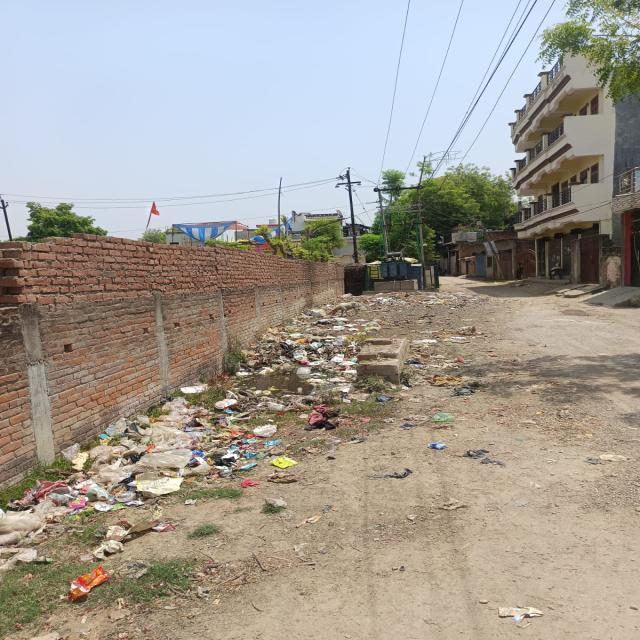Garbage: (11, 392, 232, 557), (249, 331, 361, 396)
